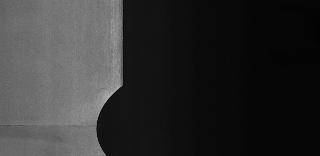welding line: (0, 120, 104, 132)
